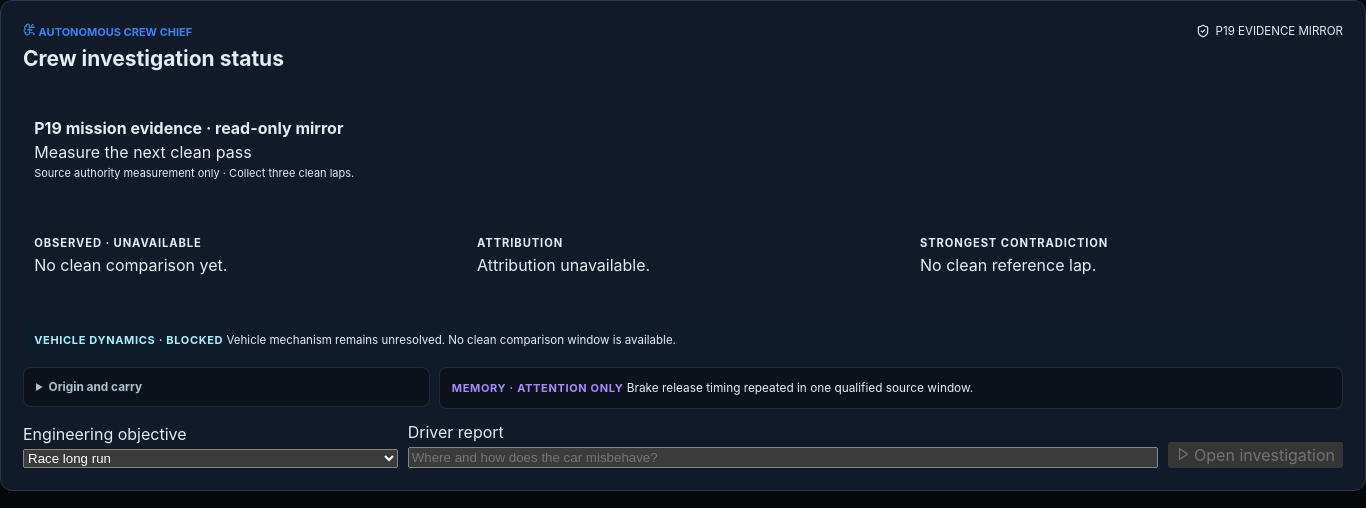
Test: CrewChiefCommandDeck boundary states › fails closed and refreshes when the provider rejects a Crew publication fork
Step 1. Type "Loose on entry" into the field with placeholder "Where and how does the car misbehave?" → {"x": 783, "y": 457}, box [408,447,1158,468]
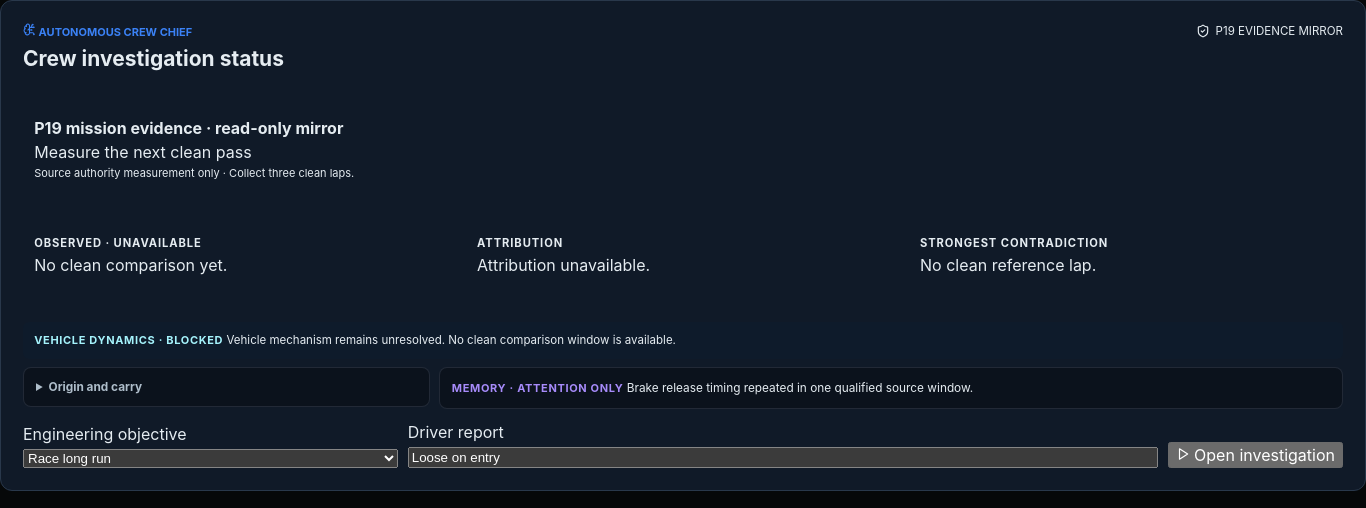
Step 2. Click the button "Open investigation" → {"x": 1255, "y": 455}, box [1168,442,1343,468]
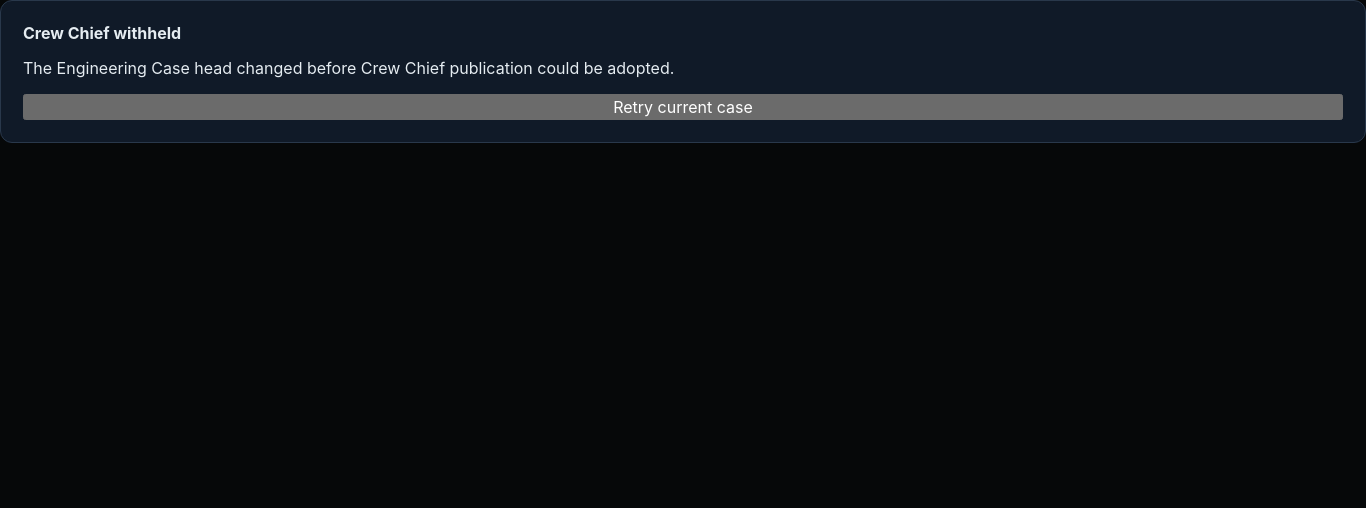
Now the message shows "Case head changed", box [23,58,674,78]
